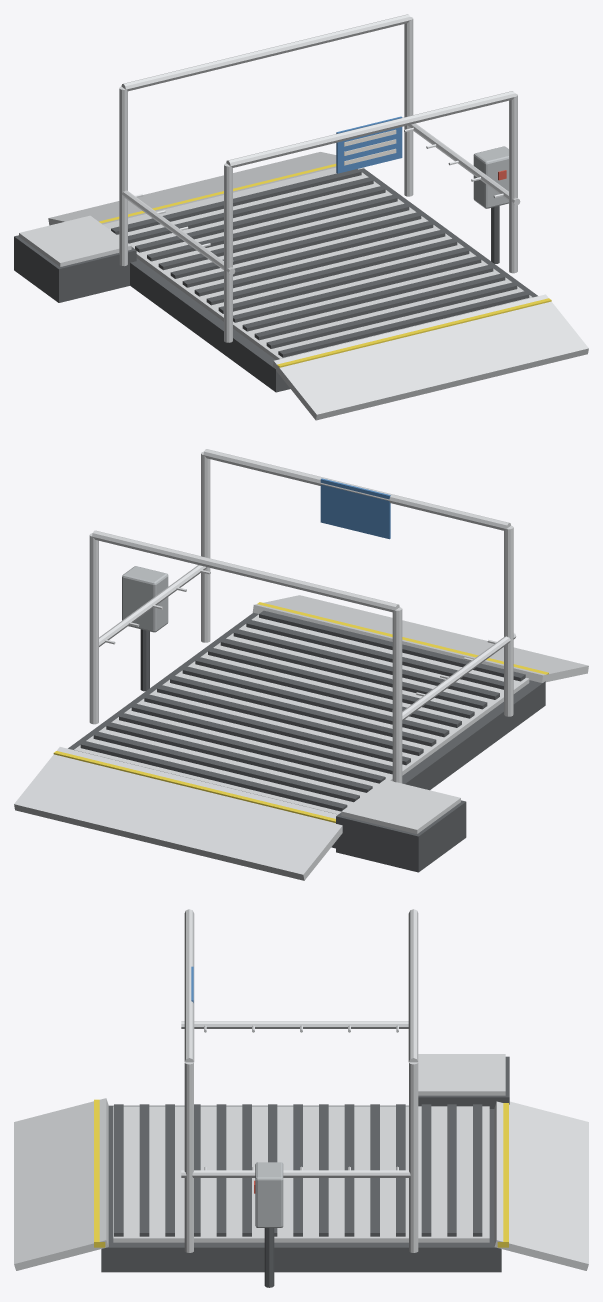
The model's file is demolition-and-site-clearance-demolition-and-site-clea-abf0bc0b__35703.glb.
The picture shows the model from 3 angles, top to bottom: view 1: azimuth 30°, elevation 25°; view 2: azimuth 150°, elevation 25°; view 3: azimuth 270°, elevation 25°; orthographic projection. The views are drawn at different scales.
Visible parts, largest first — view 1: demolition-and-site-clearance-wheel-wash-frame; view 2: demolition-and-site-clearance-wheel-wash-frame; view 3: demolition-and-site-clearance-wheel-wash-frame.
Part boxes in pixels (x1=…): demolition-and-site-clearance-wheel-wash-frame: x1=14, y1=14, x2=588, y2=420; demolition-and-site-clearance-wheel-wash-frame: x1=14, y1=449, x2=588, y2=880; demolition-and-site-clearance-wheel-wash-frame: x1=14, y1=909, x2=588, y2=1287.
Size of the model in its own units: 5.95 by 3 by 7.18.
